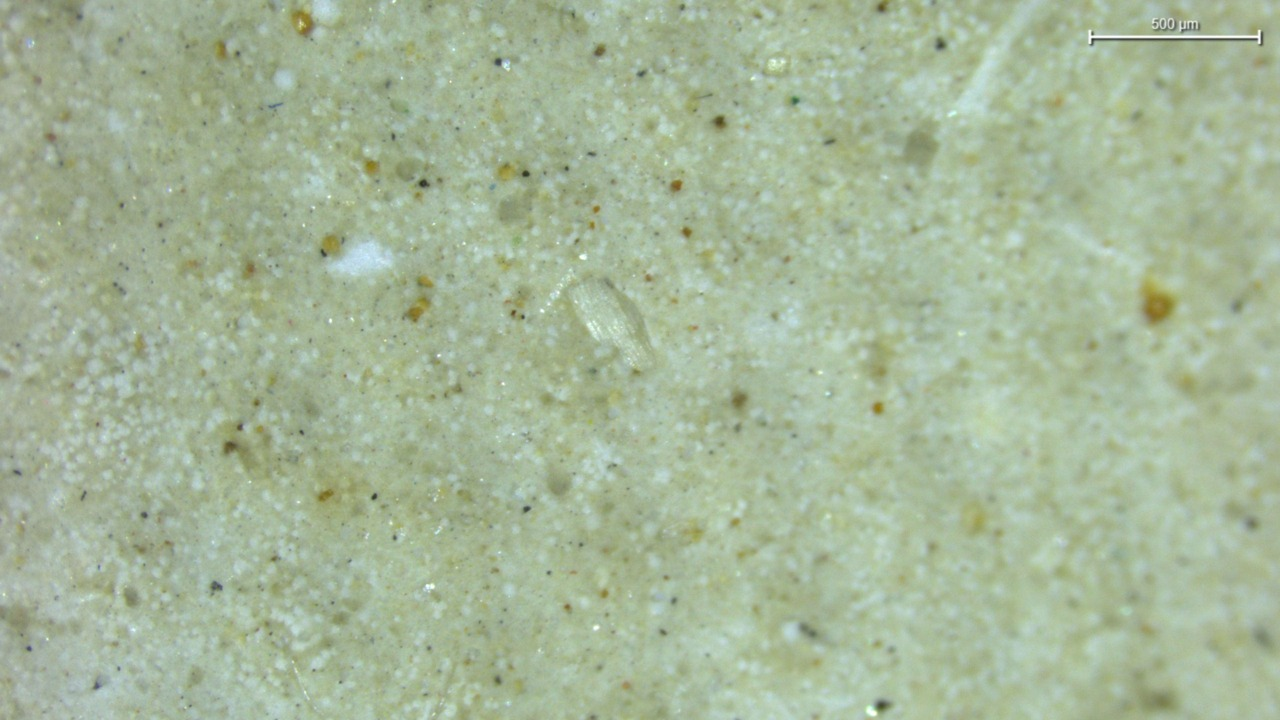microplastic_fragment: (562, 278, 656, 371)
